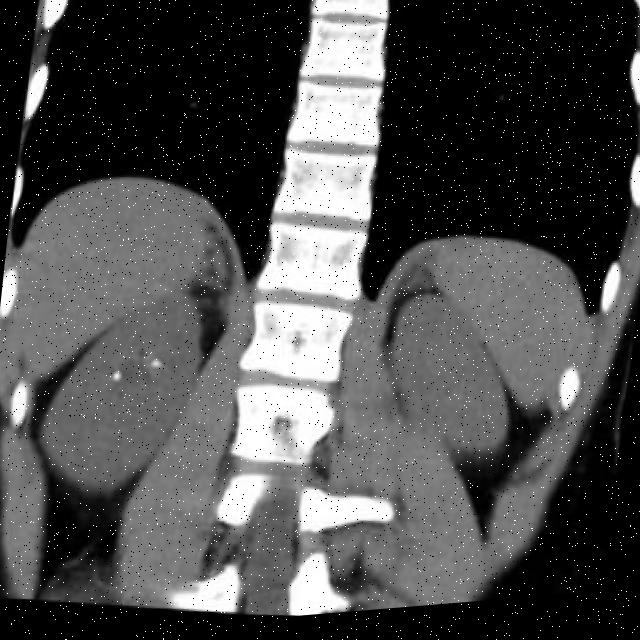Tas_Var: (108, 366, 126, 385), (150, 354, 164, 372)
